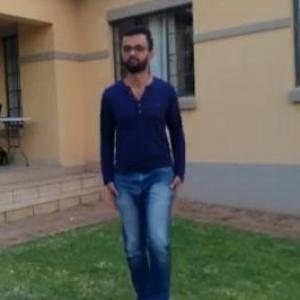follow: (97, 19, 185, 282)
